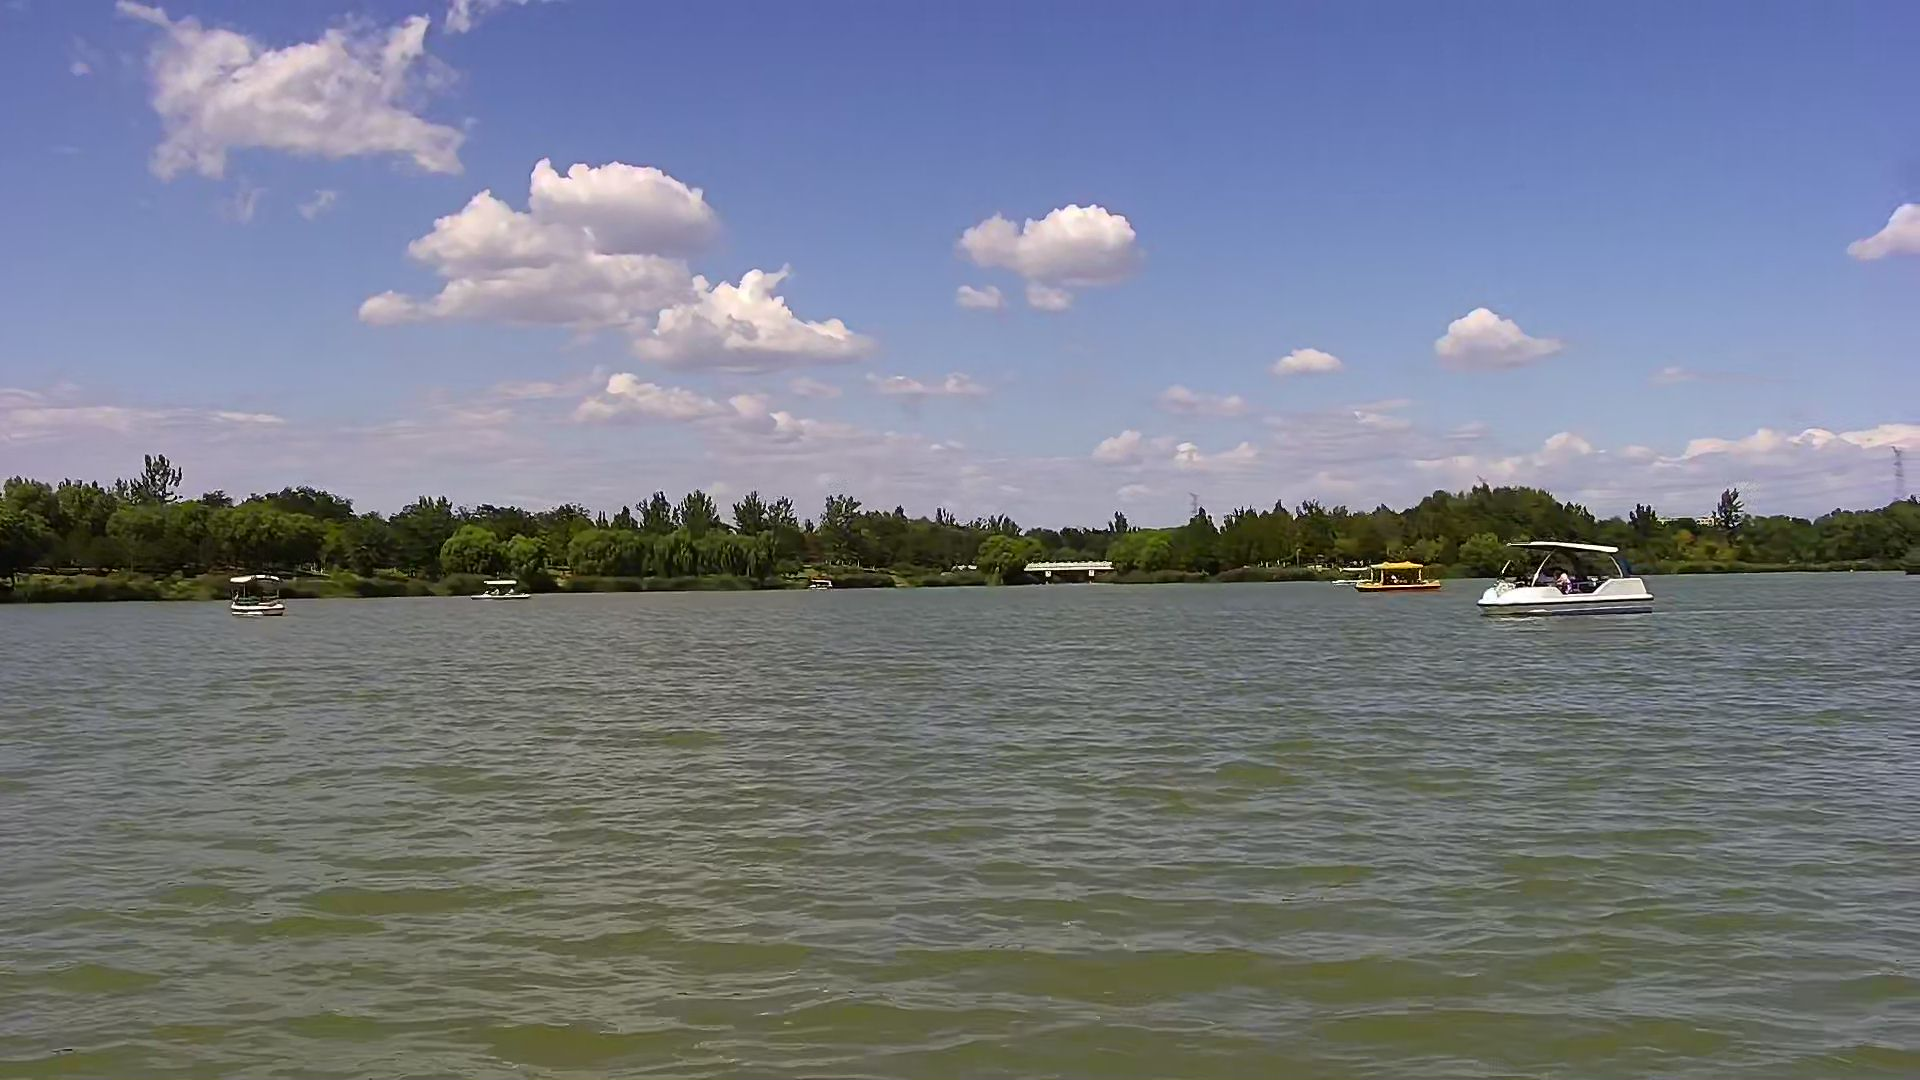boat: (1476, 531, 1667, 618), (1335, 553, 1441, 595), (231, 570, 284, 622), (469, 574, 534, 600)
bridge: (1025, 555, 1112, 585)
